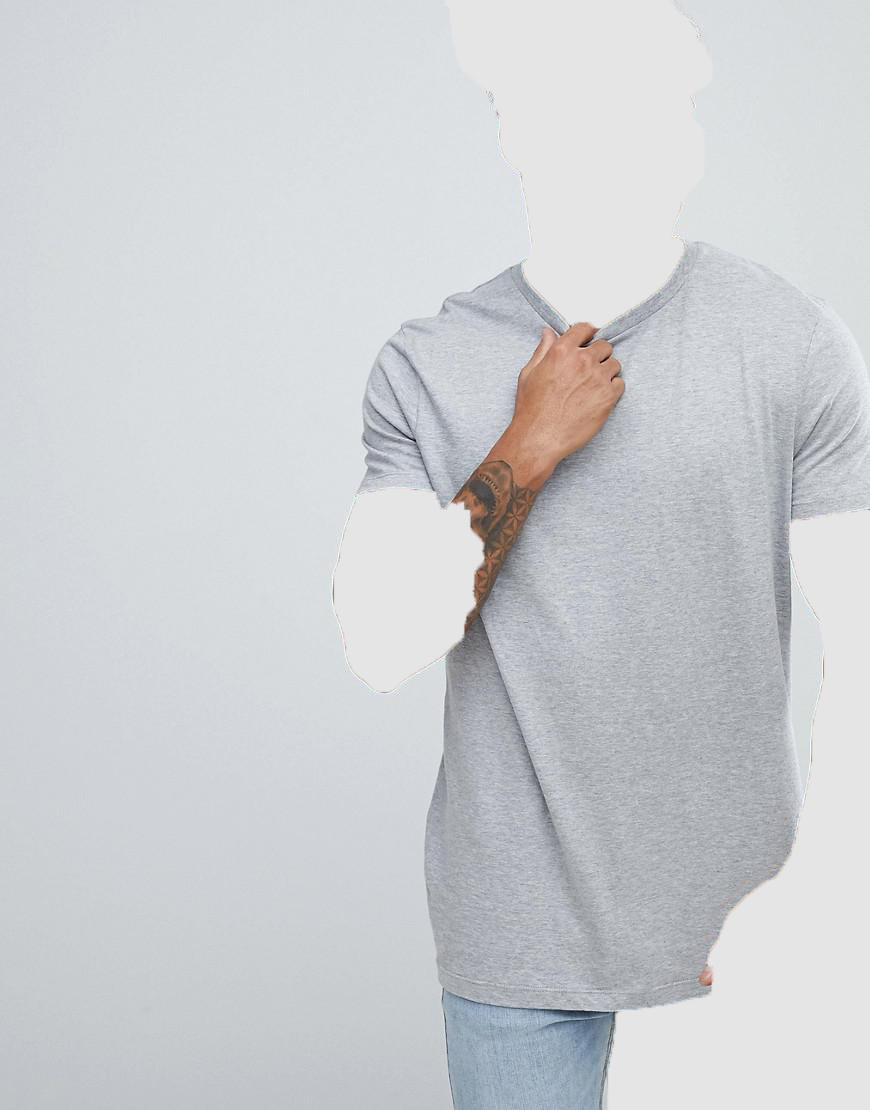teeshirt: (332, 242, 870, 1021)
